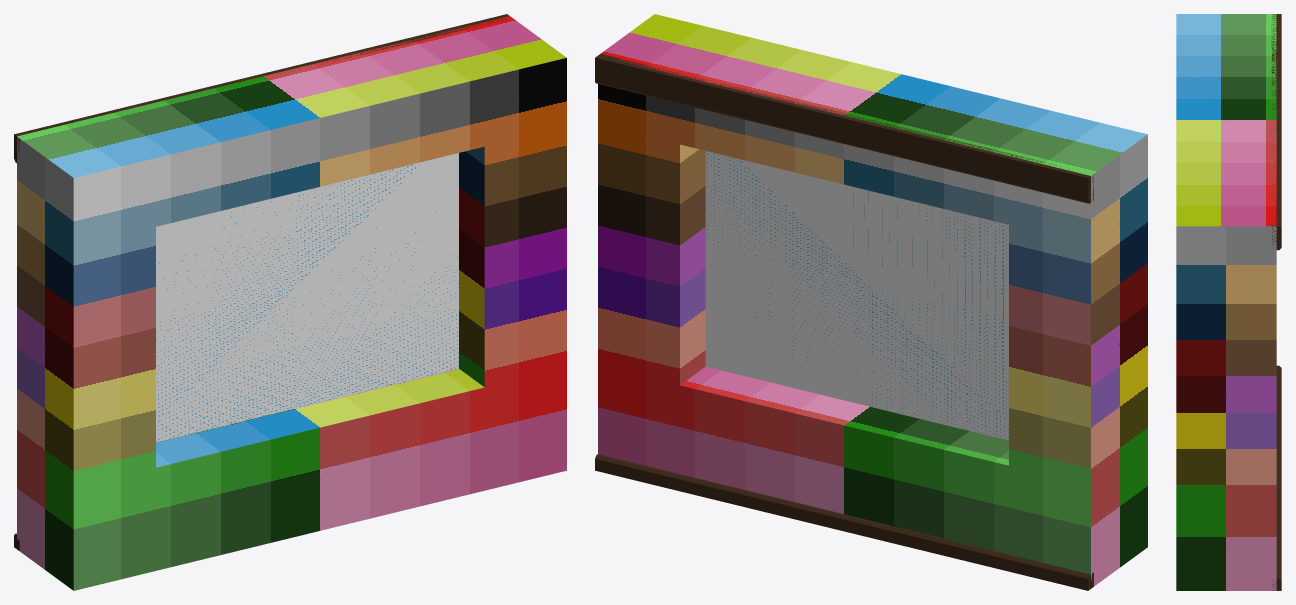
File: Wall_Window.fbx
3 views of the same model, side by side, from view 1: azimuth 30°, elevation 25°; view 2: azimuth 150°, elevation 25°; view 3: azimuth 270°, elevation 25° (orthographic). The views are drawn at different scales.
Visible parts, largest first — view 1: Cube, Cube.003, Cube.002; view 2: Cube, Cube.003, Cube.002, Cube.001; view 3: Cube, Cube.002, Cube.001.
Part boxes in pixels (bbox=[...]): Cube: bbox=[17, 16, 566, 590]; Cube.003: bbox=[156, 153, 458, 442]; Cube.002: bbox=[14, 14, 511, 163]; Cube: bbox=[598, 14, 1147, 586]; Cube.003: bbox=[705, 151, 1008, 440]; Cube.002: bbox=[595, 53, 1093, 203]; Cube.001: bbox=[595, 454, 1093, 590]; Cube: bbox=[1176, 14, 1276, 590]; Cube.002: bbox=[1271, 14, 1281, 250]; Cube.001: bbox=[1272, 365, 1281, 590].
Bounding box in the file's own units: 500 × 400 × 105.
